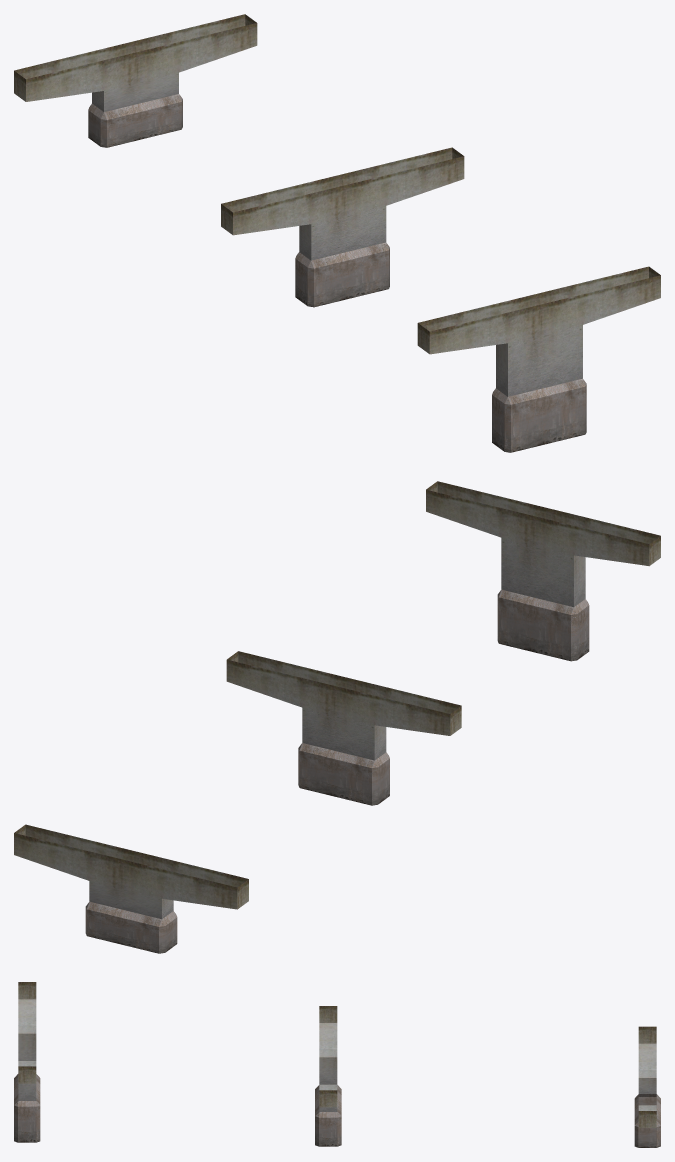
The model's file is des_sbridsupps.obj.
3 views of the same model, one above another, from view 1: azimuth 30°, elevation 25°; view 2: azimuth 150°, elevation 25°; view 3: azimuth 270°, elevation 25° (orthographic). The views are drawn at different scales.
Parts seen in each view (by area): view 1: des_sbridsupps; view 2: des_sbridsupps; view 3: des_sbridsupps.
Boxes of the visible parts, bbox=[...] form: des_sbridsupps: bbox=[14, 14, 660, 452]; des_sbridsupps: bbox=[14, 481, 660, 953]; des_sbridsupps: bbox=[14, 982, 660, 1147].
Size of the model in its own units: 12.92 by 7.2 by 39.95.
Materials: 2 (2 with a texture image).
